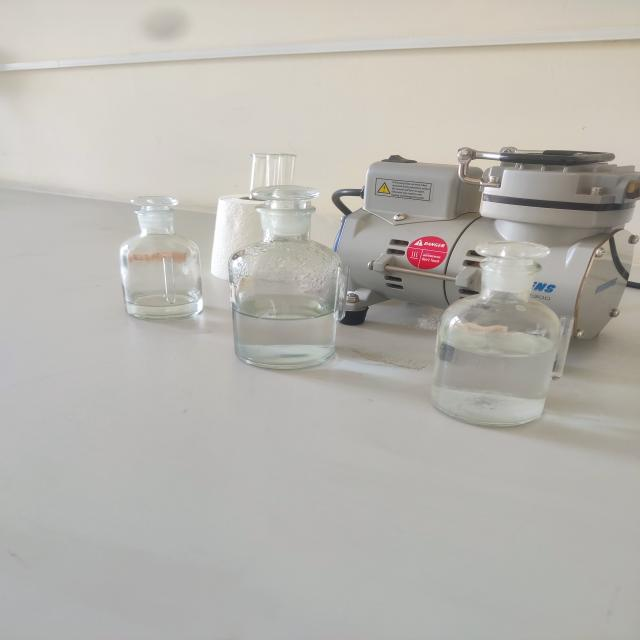Reagent_Bottle: (410, 219, 591, 452), (202, 176, 372, 385), (92, 179, 220, 348)
